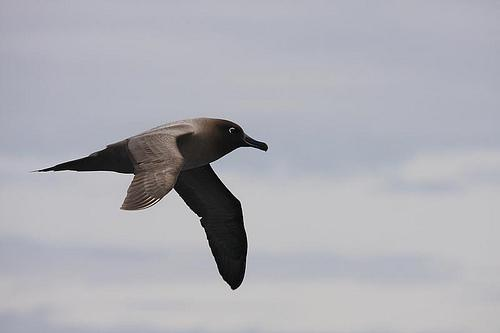003.Sooty_Albatross: (30, 118, 268, 296)
